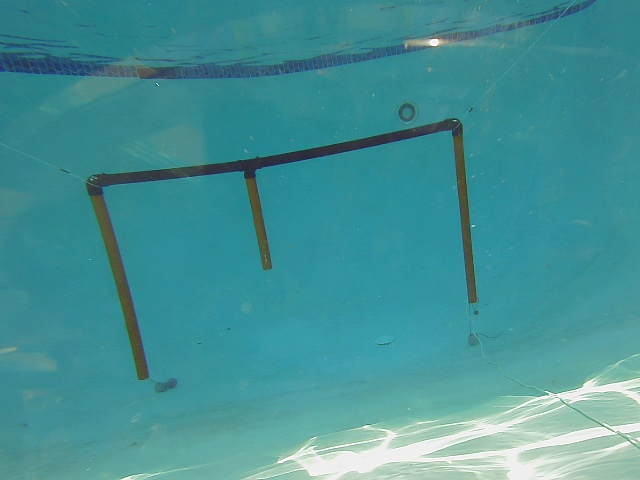Gate: (85, 188, 152, 383), (452, 129, 480, 308), (243, 165, 276, 276)
